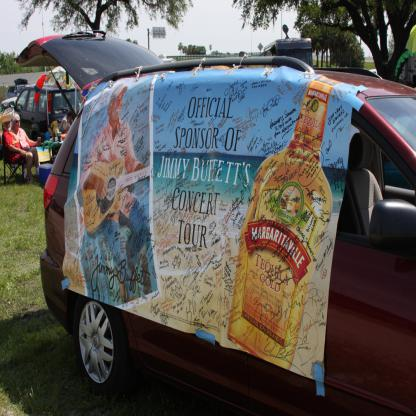Car: (11, 24, 416, 416), (1, 83, 63, 109), (7, 81, 32, 96)
